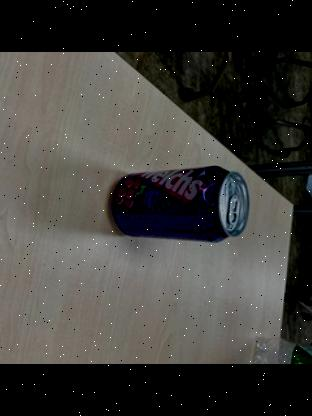Can: (104, 164, 252, 244)
